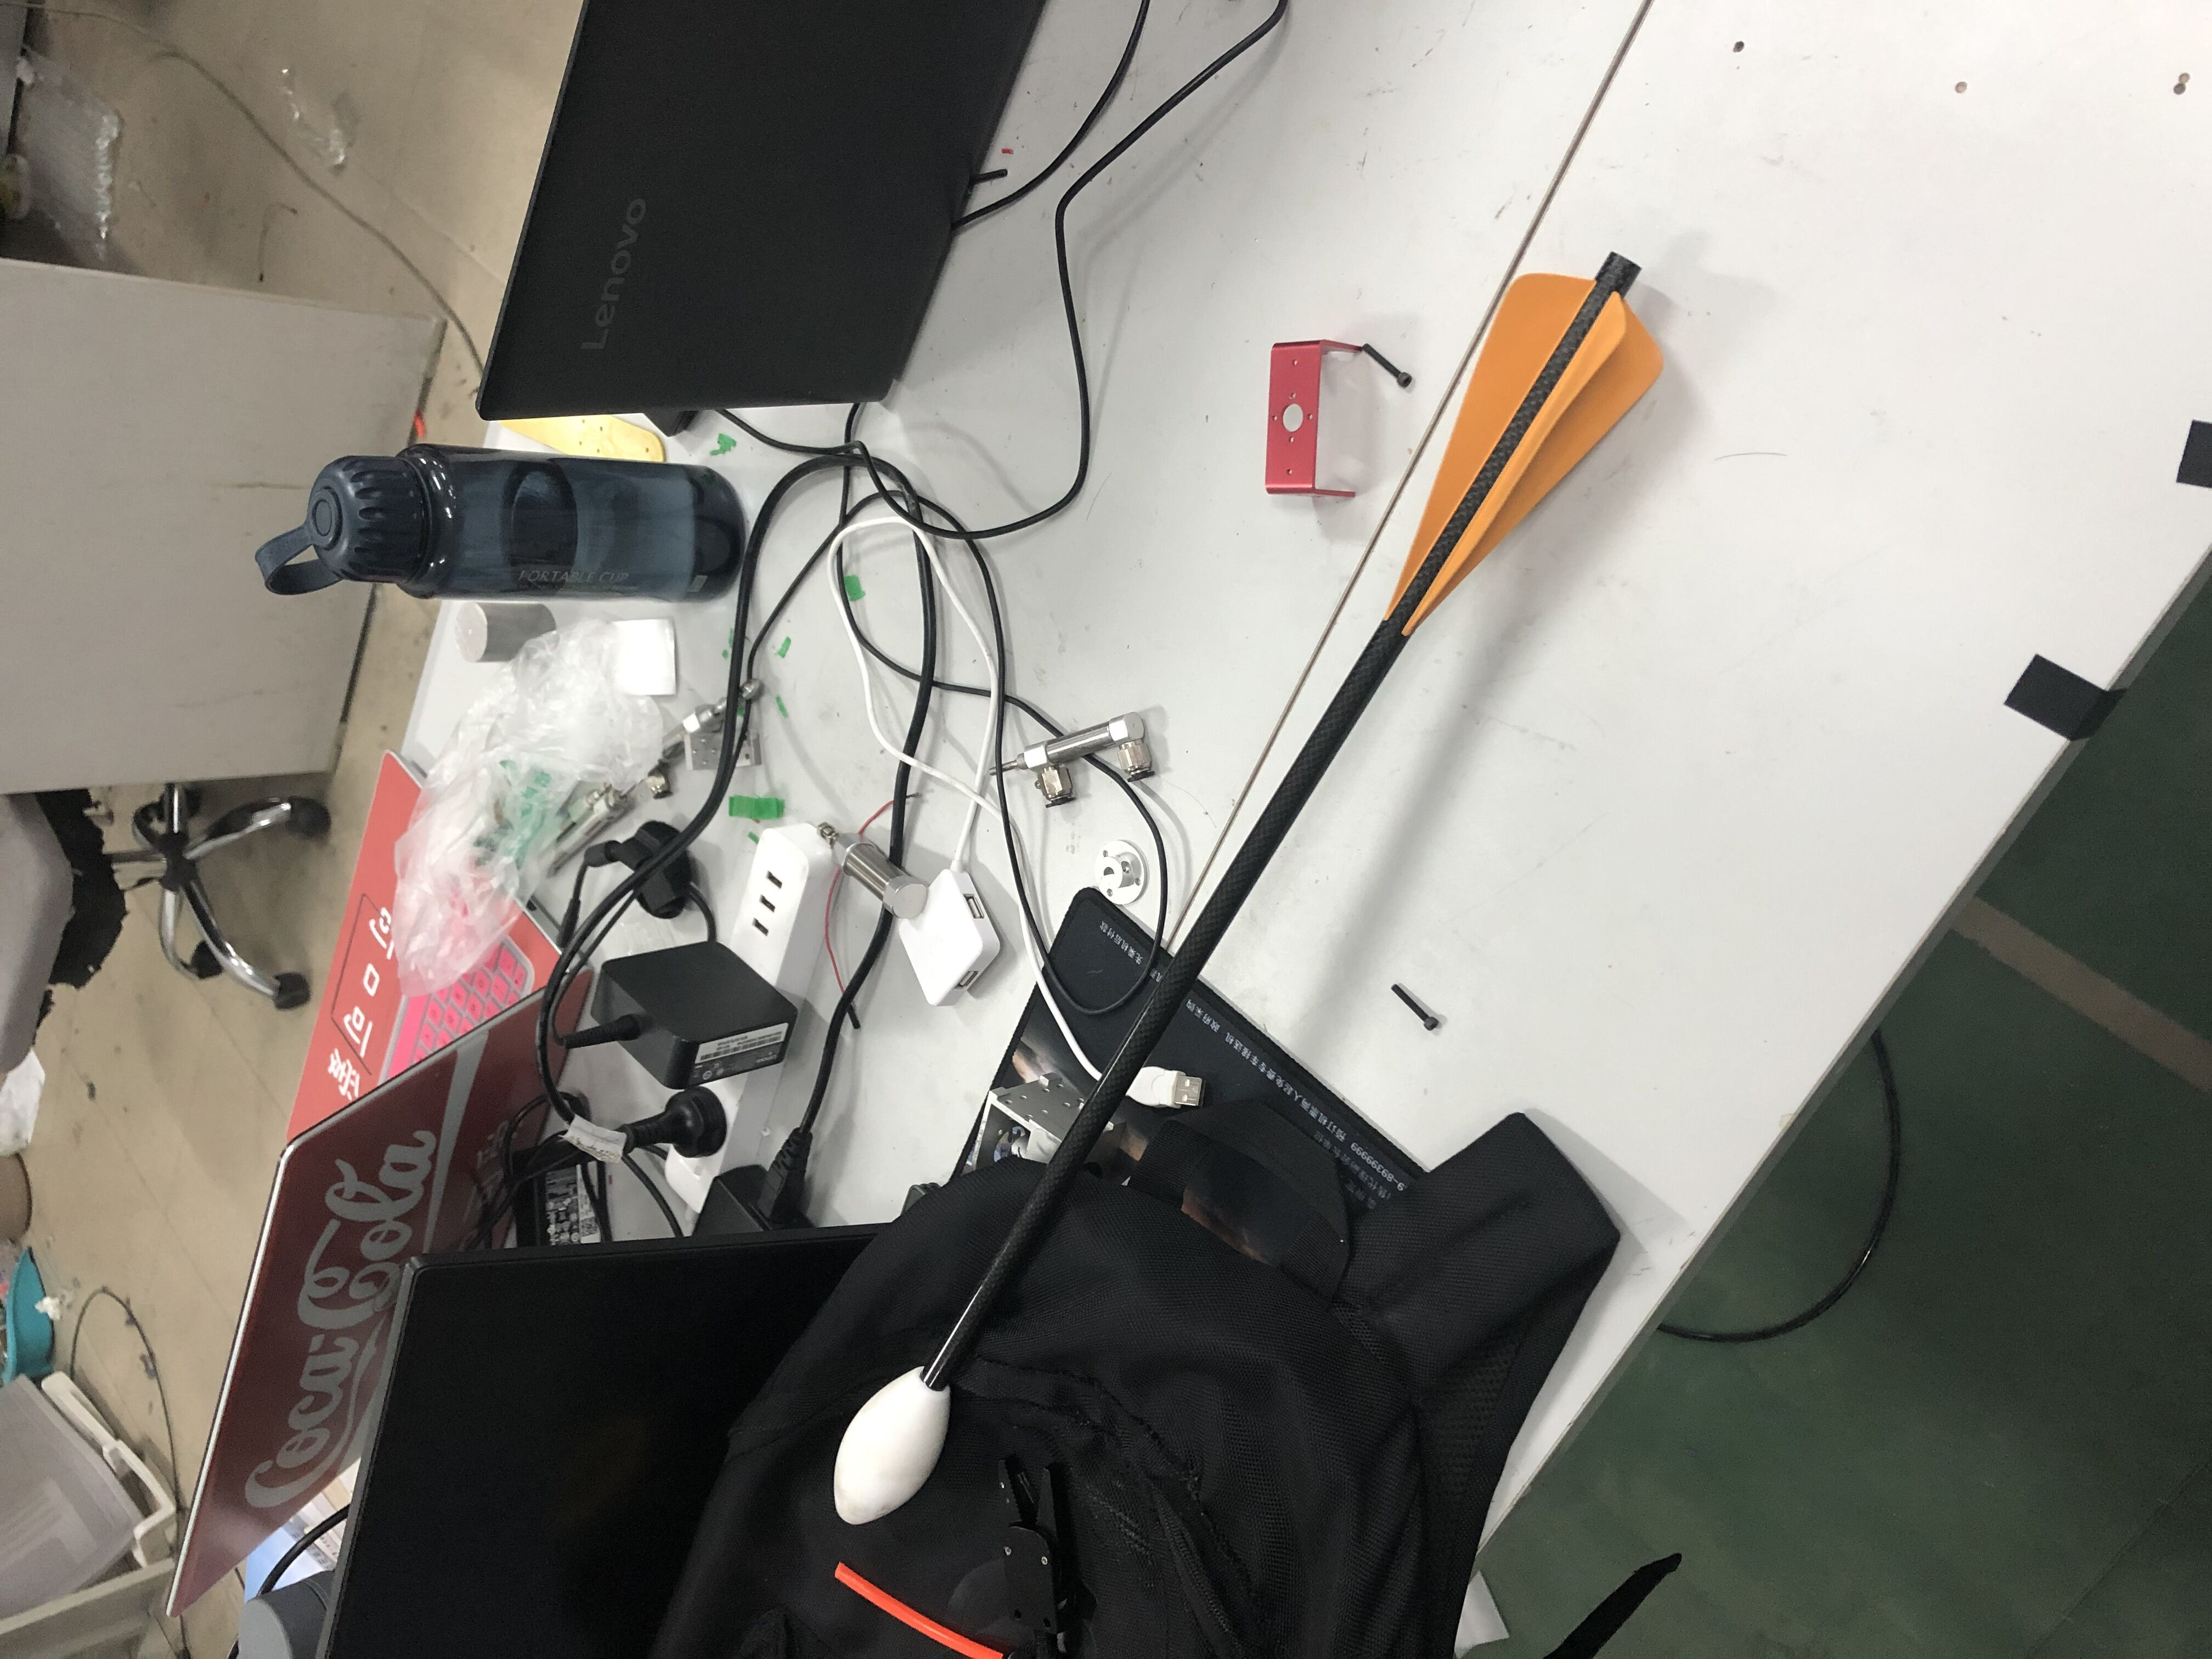arrow: (820, 240, 1677, 1535)
arrowFront: (833, 1363, 954, 1528)
